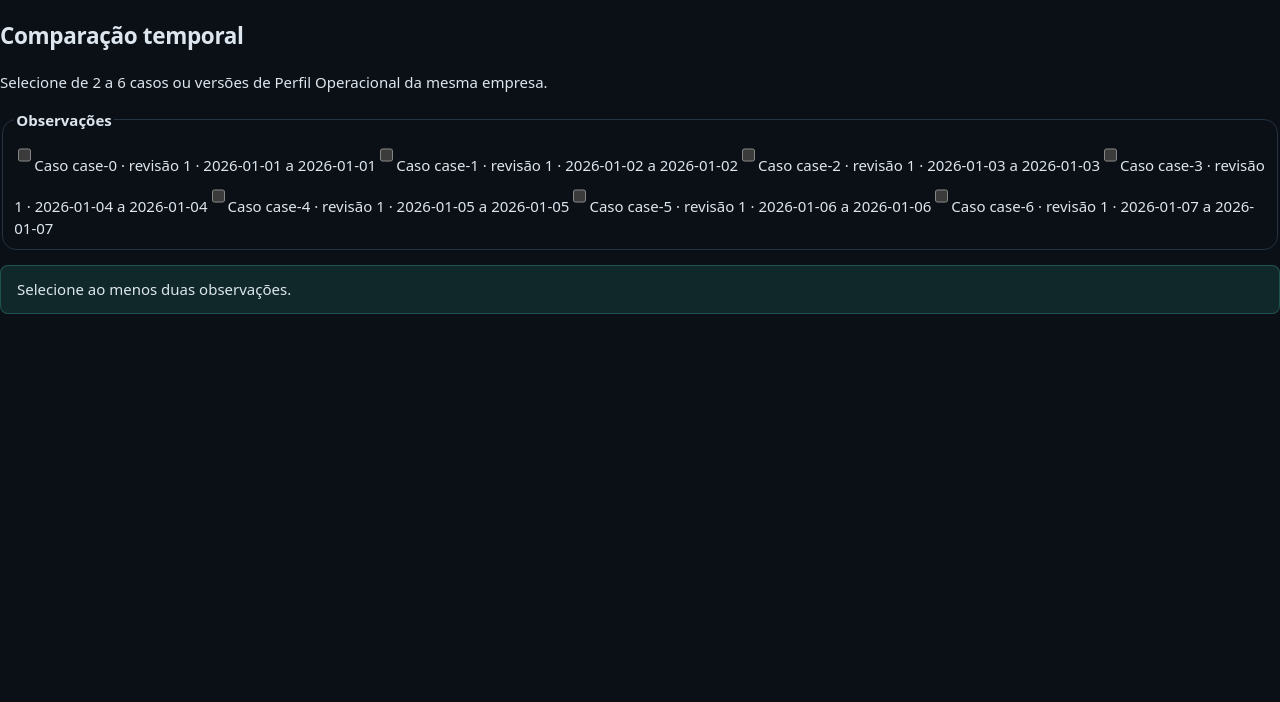
TemporalComparison › caps selection at six and never offers scenario-variant semantics
The image size is (1280, 702).
Click the checkbox labelled "Caso case-0 · revisão 1 · 2026-01-01 a 2026-01-01" at x=25, y=155, box [18, 139, 31, 171]
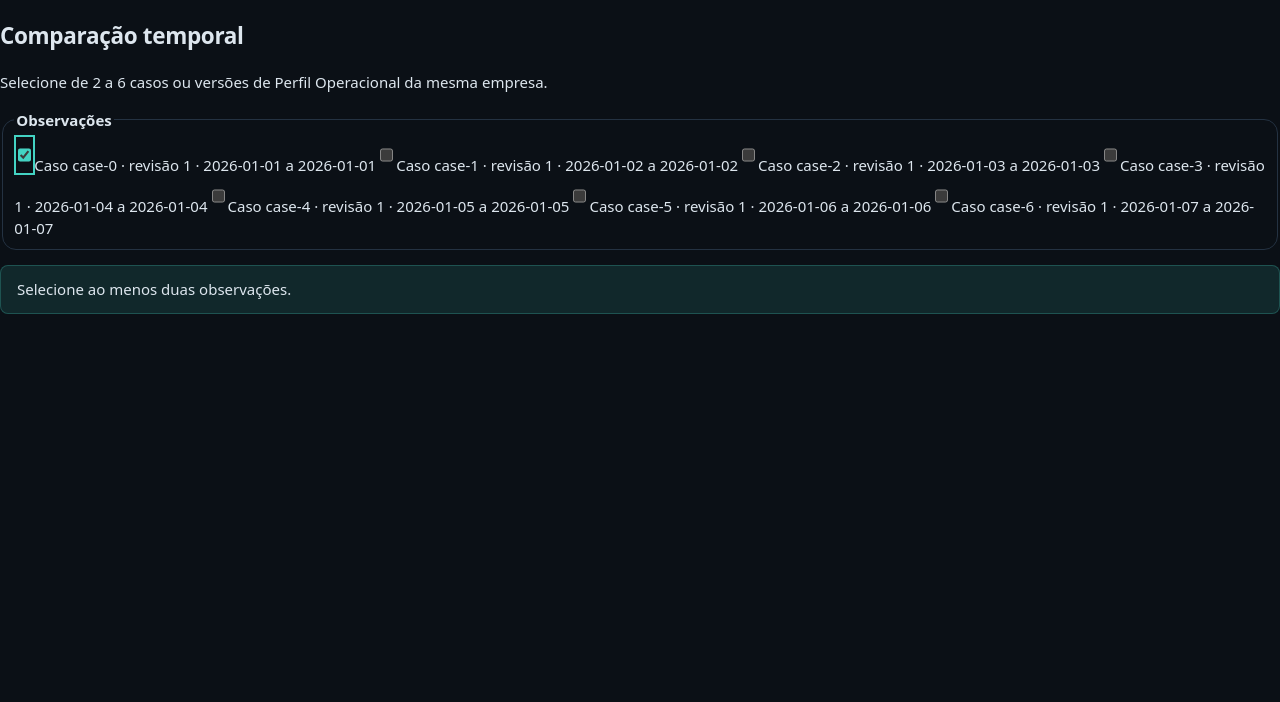
Click the checkbox labelled "Caso case-1 · revisão 1 · 2026-01-02 a 2026-01-02" at x=387, y=155, box [380, 139, 393, 171]
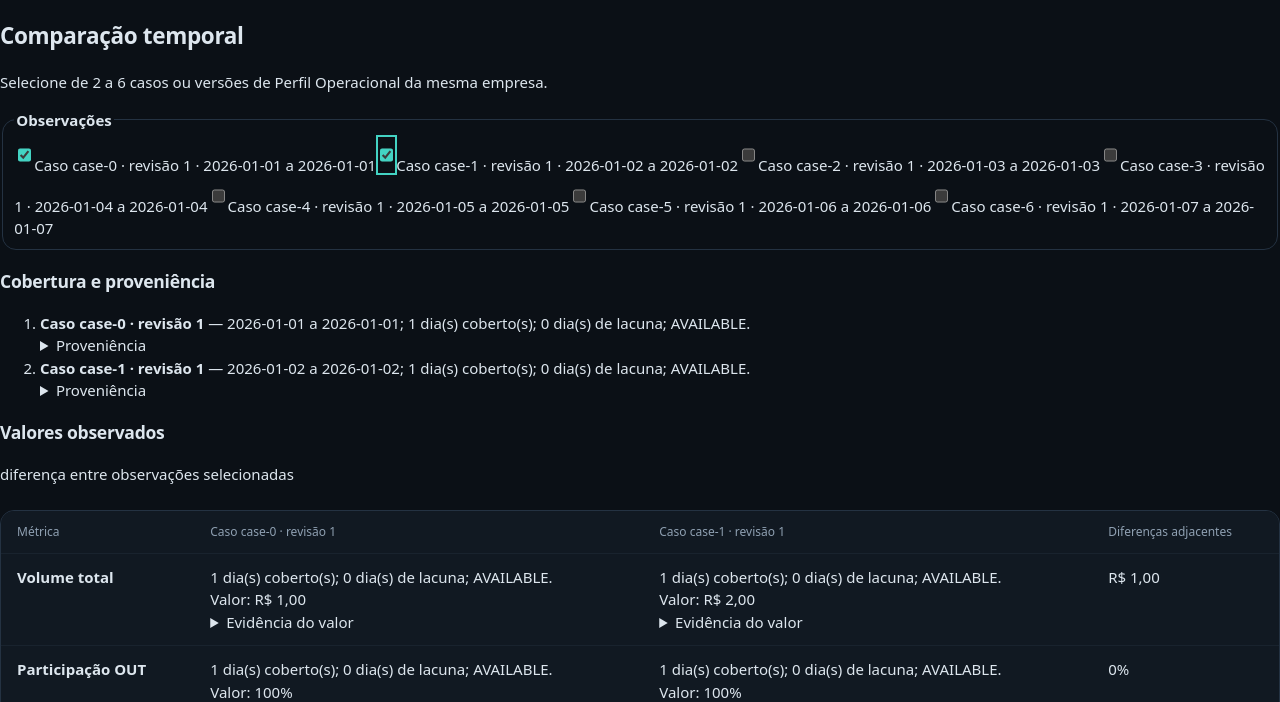
Click the checkbox labelled "Caso case-2 · revisão 1 · 2026-01-03 a 2026-01-03" at x=749, y=155, box [742, 139, 755, 171]
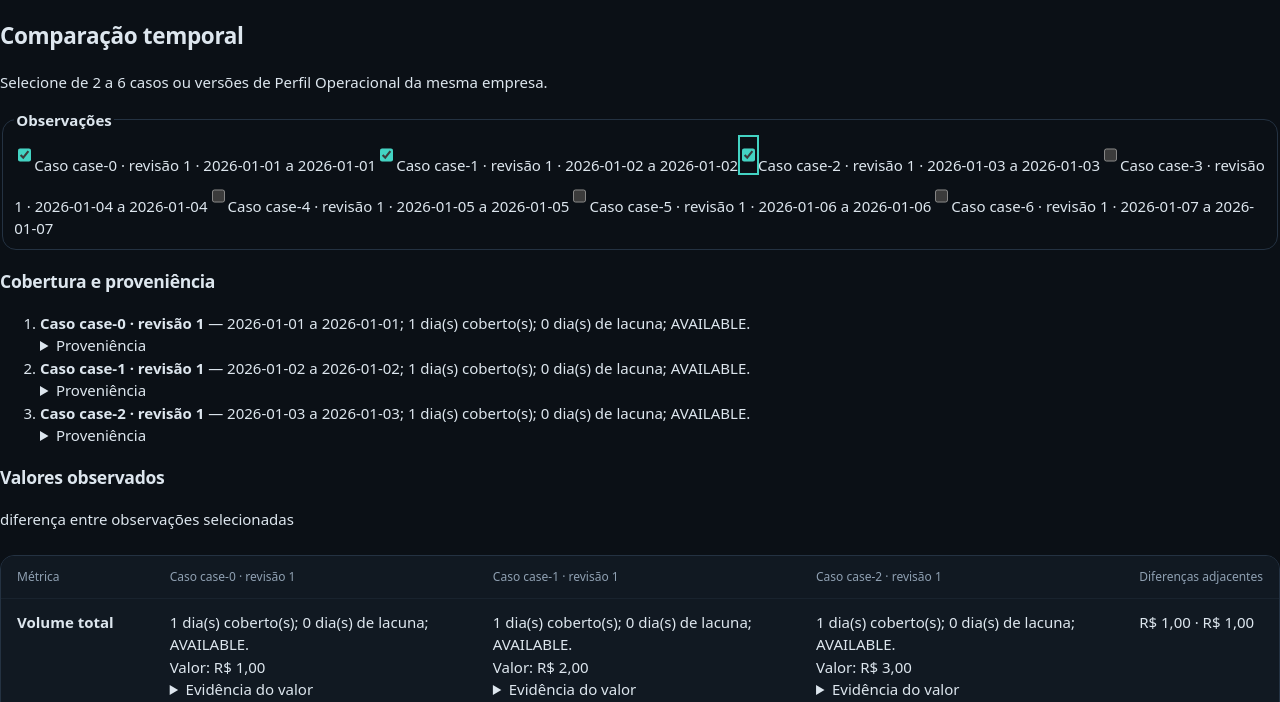
Click the checkbox labelled "Caso case-3 · revisão 1 · 2026-01-04 a 2026-01-04" at x=1110, y=155, box [1104, 139, 1117, 171]
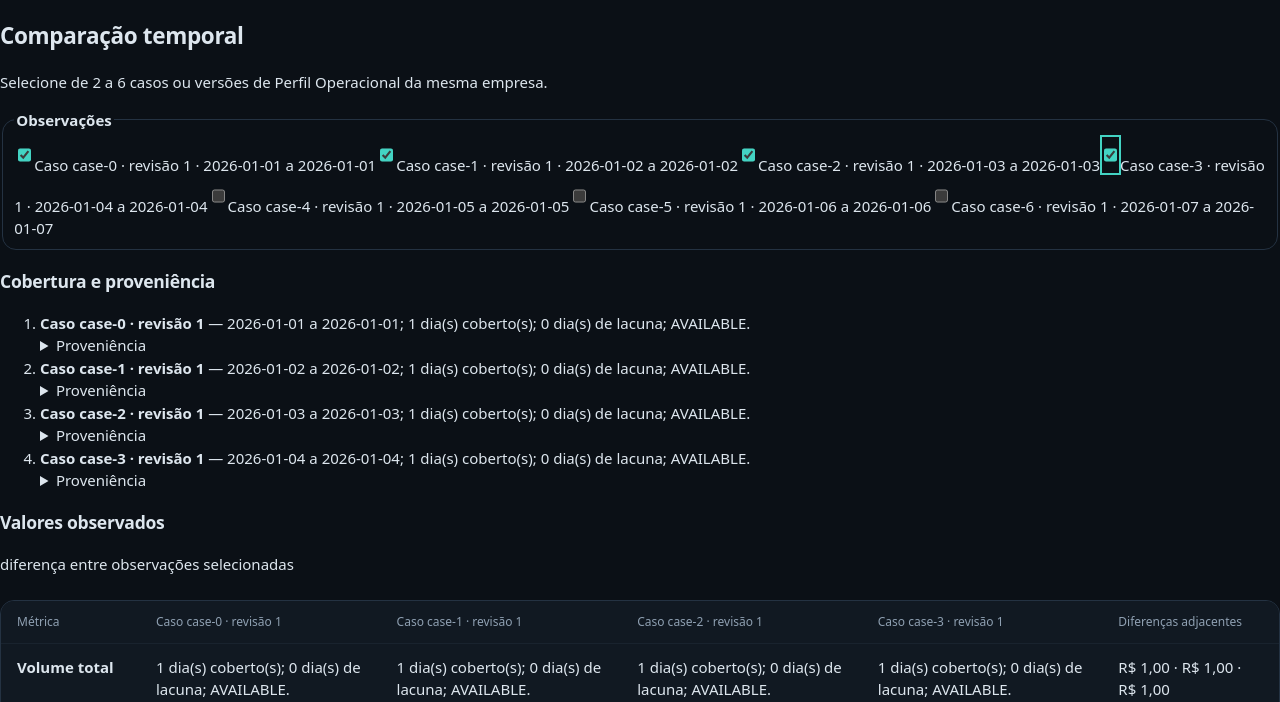
Click the checkbox labelled "Caso case-4 · revisão 1 · 2026-01-05 a 2026-01-05" at x=218, y=196, box [212, 180, 224, 212]
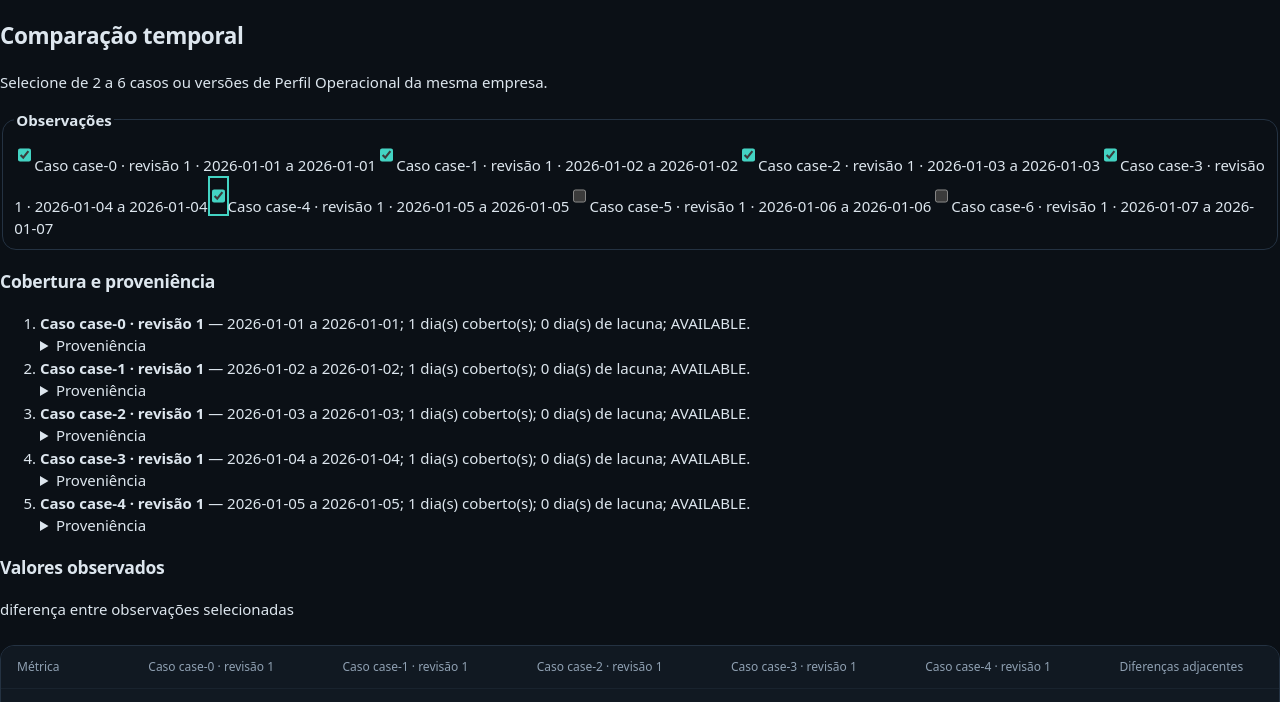
Click the checkbox labelled "Caso case-5 · revisão 1 · 2026-01-06 a 2026-01-06" at x=580, y=196, box [573, 180, 586, 212]
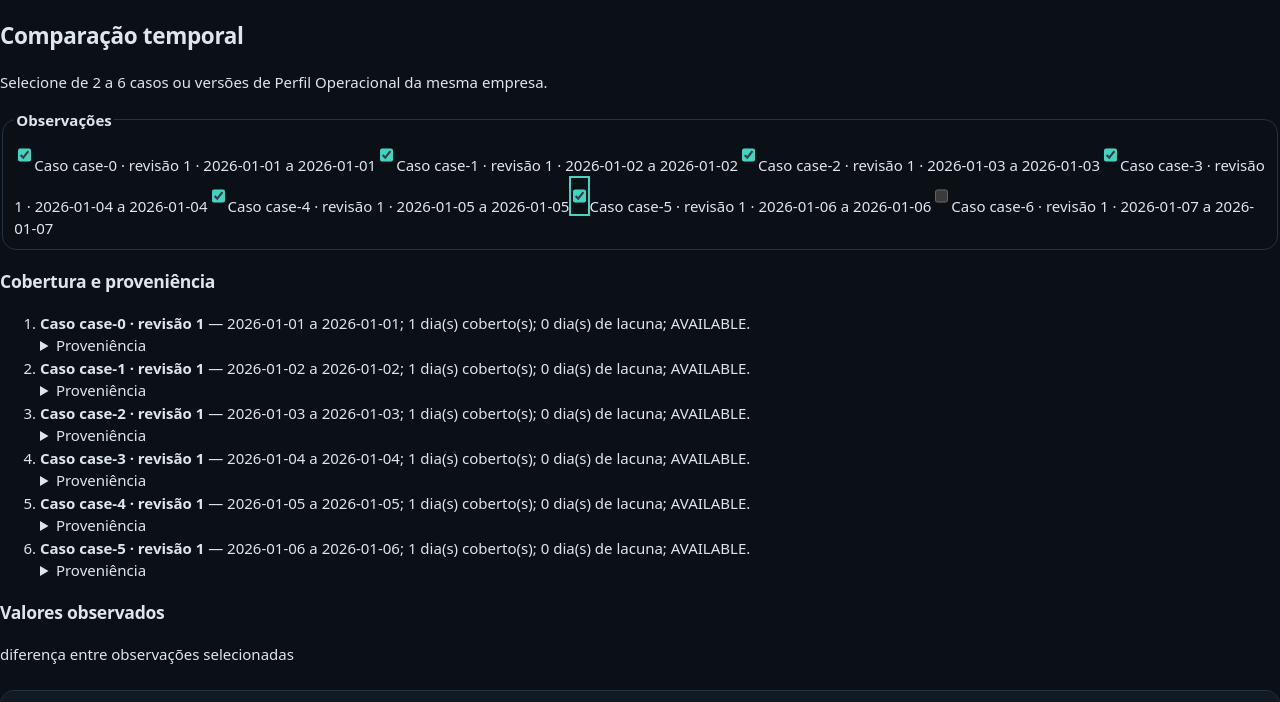
Check: the checkbox labelled "Caso case-6 · revisão 1 · 2026-01-07 a 2026-01-07" is disabled, box [935, 180, 948, 212]
